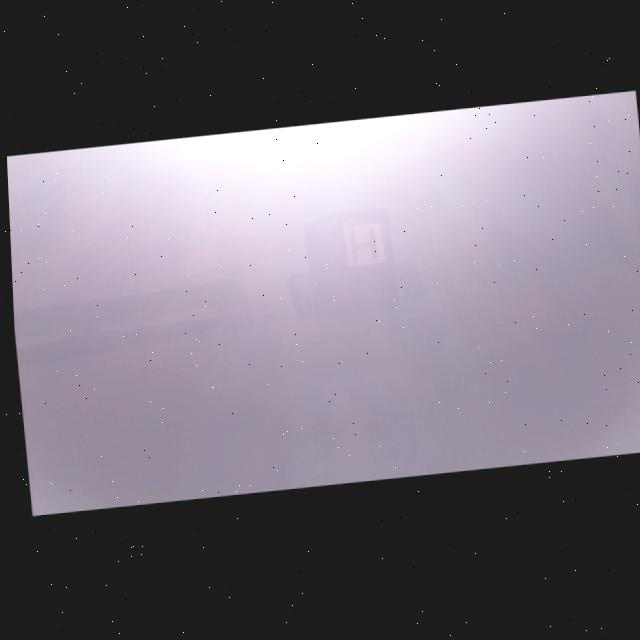H: (348, 232, 376, 265)
